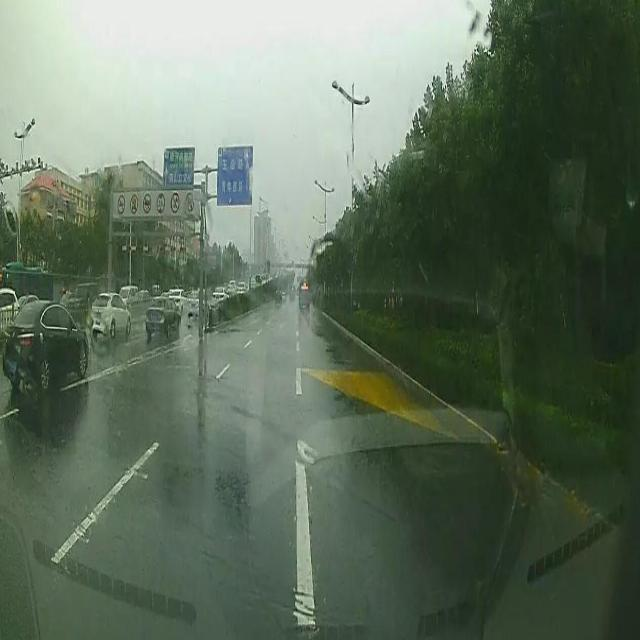car: (2, 298, 88, 388), (88, 292, 132, 334), (144, 295, 180, 339), (275, 288, 282, 304)
